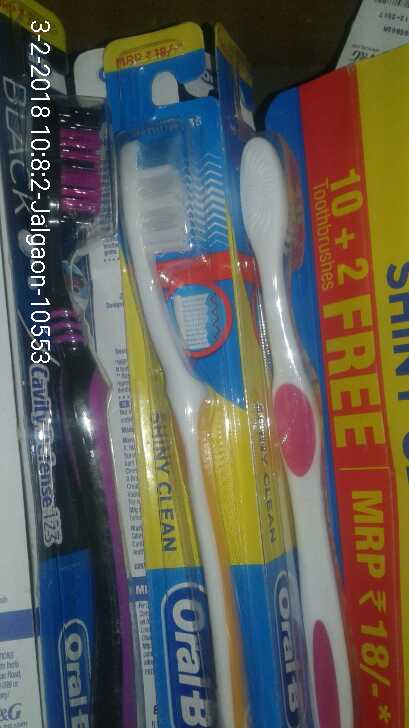oralb: (109, 105, 251, 728), (16, 92, 143, 728)
